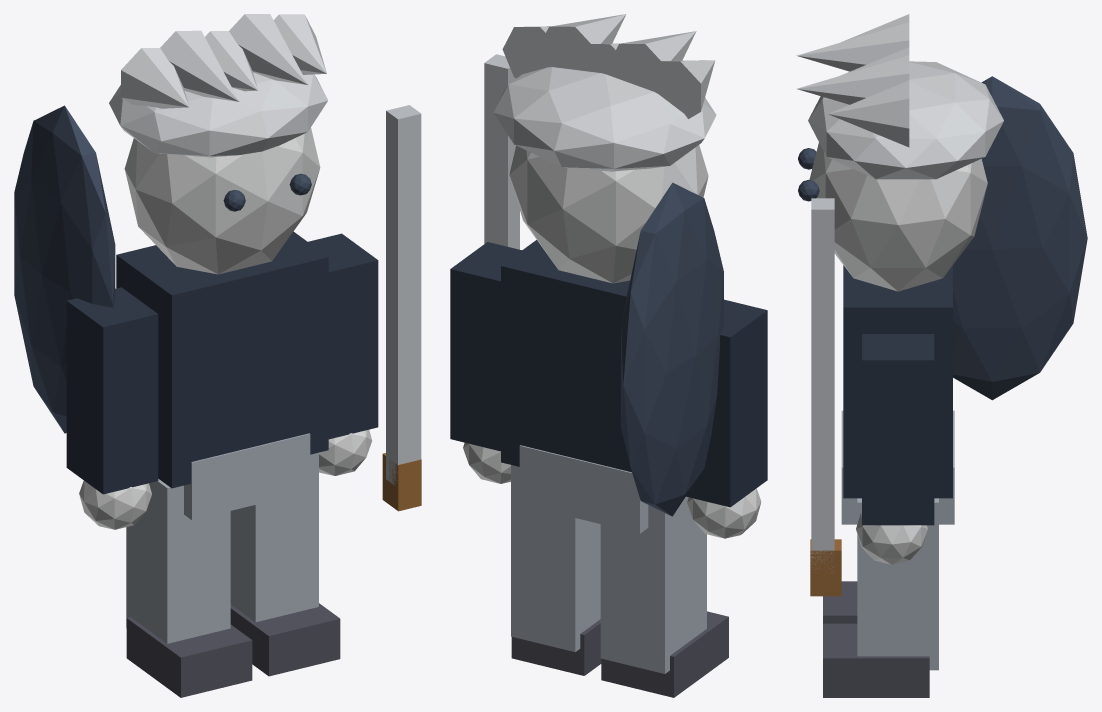
The model's file is sephiroth.glb.
The picture shows the model from 3 angles, left to right: view 1: azimuth 30°, elevation 25°; view 2: azimuth 150°, elevation 25°; view 3: azimuth 270°, elevation 25°; orthographic projection. The views are drawn at different scales.
Parts seen in each view (by area): view 1: part_000, part_021, part_010, part_002, part_004, part_020, part_013, part_008, part_006, part_001, part_005, part_009 (+8 smaller); view 2: part_021, part_000, part_013, part_010, part_004, part_008, part_002, part_006, part_001, part_020, part_005, part_017 (+7 smaller); view 3: part_021, part_010, part_006, part_013, part_000, part_008, part_020, part_009, part_018, part_015, part_017, part_007 (+3 smaller).
Boxes of the visible parts, x1,y1,x2,y2 form: part_000: [116, 231, 328, 488]; part_021: [14, 105, 115, 433]; part_010: [124, 128, 320, 274]; part_002: [66, 287, 158, 494]; part_004: [126, 479, 230, 643]; part_020: [386, 105, 421, 486]; part_013: [109, 72, 327, 157]; part_008: [230, 452, 318, 622]; part_006: [308, 233, 378, 439]; part_001: [184, 433, 310, 520]; part_005: [126, 617, 252, 697]; part_009: [230, 603, 340, 676]; part_021: [621, 182, 723, 516]; part_000: [501, 240, 631, 472]; part_013: [493, 67, 716, 171]; part_010: [509, 145, 708, 283]; part_004: [600, 496, 706, 673]; part_008: [511, 465, 600, 652]; part_002: [686, 299, 767, 507]; part_006: [450, 242, 521, 451]; part_001: [519, 445, 648, 533]; part_020: [484, 54, 519, 249]; part_005: [601, 611, 728, 697]; part_017: [537, 14, 626, 72]; part_021: [953, 76, 1087, 400]; part_010: [809, 142, 987, 291]; part_006: [862, 334, 934, 525]; part_013: [808, 61, 1003, 179]; part_000: [843, 265, 952, 498]; part_008: [857, 498, 938, 670]; part_020: [811, 198, 834, 570]; part_009: [823, 623, 929, 697]; part_018: [828, 80, 909, 147]; part_015: [796, 22, 909, 71]; part_017: [797, 55, 909, 104]; part_007: [856, 511, 927, 564].
Bounding box in the file's own units: 1.08 × 2.17 × 0.929.
